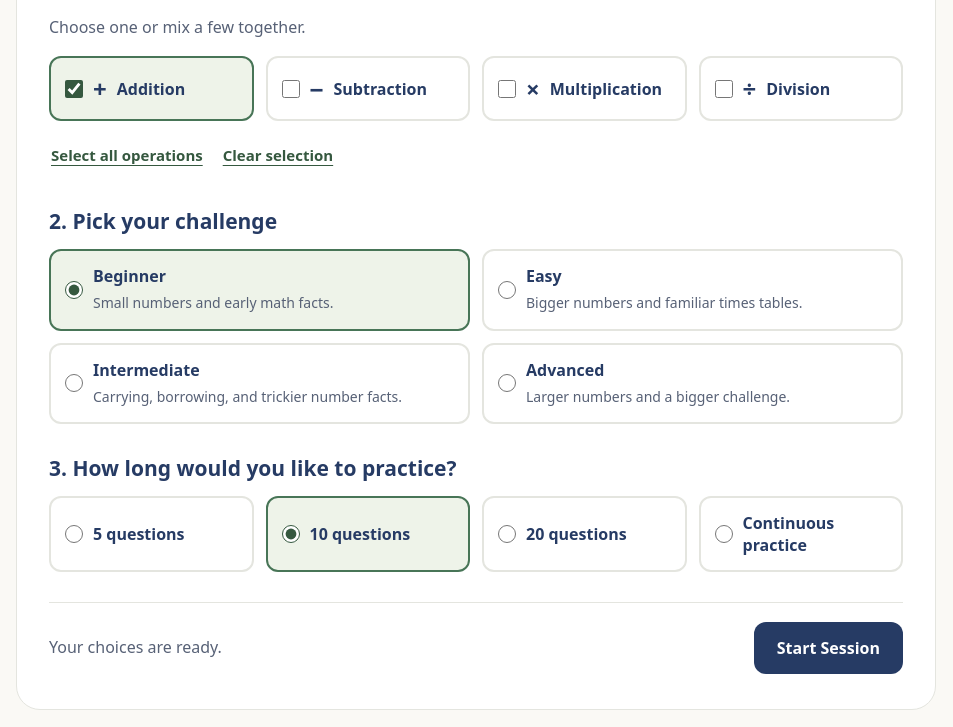
it: Practice configuration › allows exactly one difficulty and session length at a time
(page scrolled)
Click the radio button labelled "Intermediate Carrying, borrowing, and trickier number facts.": (74, 383) [65, 374, 83, 392]
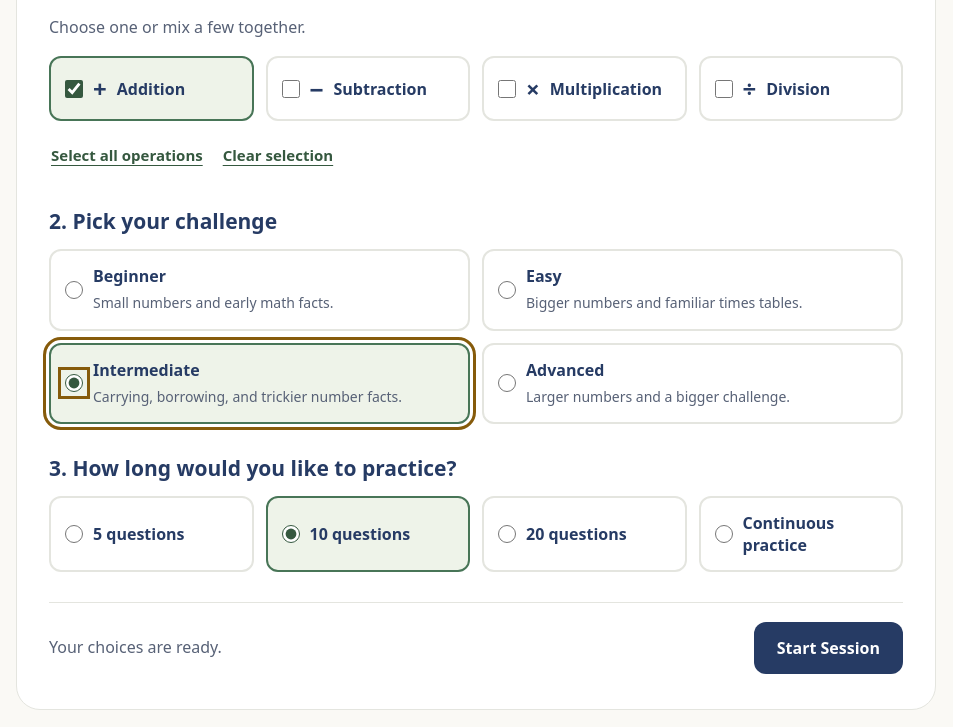
Result: the radio button labelled "Intermediate Carrying, borrowing, and trickier number facts." is checked at [65, 374, 83, 392]
Result: the radio button labelled "Beginner Small numbers and early math facts." is not checked at [65, 281, 83, 299]
Click the radio button labelled "Continuous practice": (724, 534) [714, 525, 732, 543]
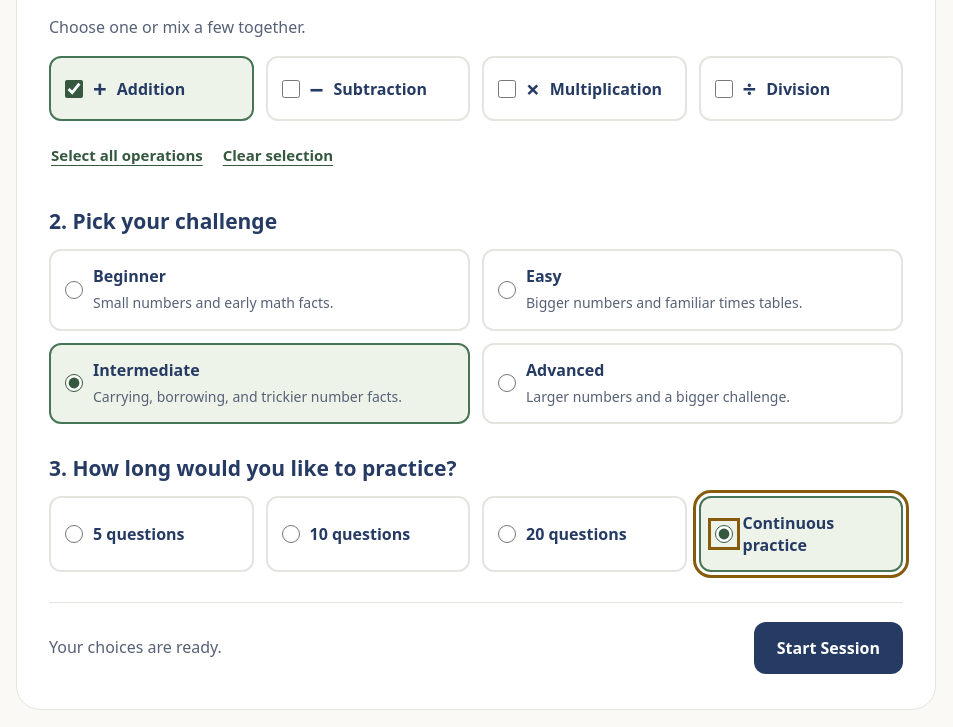
Result: the radio button labelled "Continuous practice" is checked at [714, 525, 732, 543]
Result: the radio button labelled "10 questions" is not checked at [282, 525, 300, 543]
